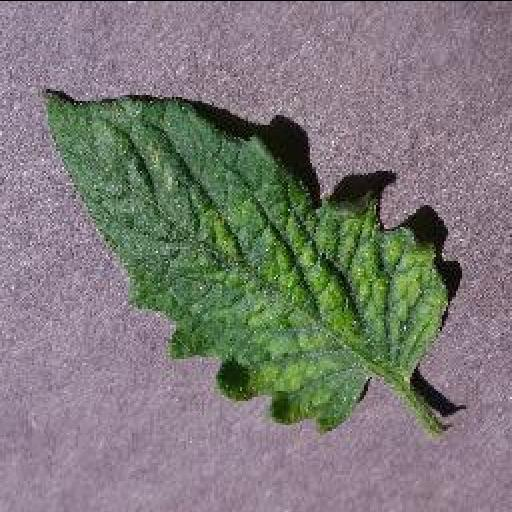Mosaic Virus: (40, 88, 446, 434)
